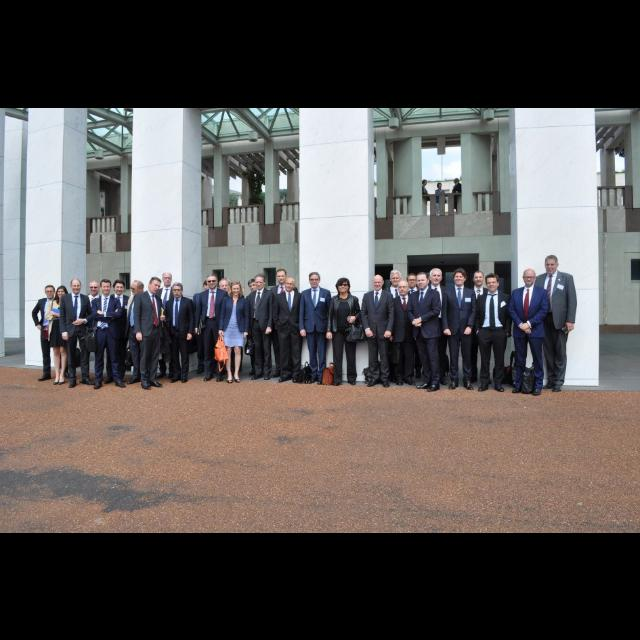head: (544, 254, 560, 274), (522, 268, 538, 286), (428, 267, 444, 285), (486, 274, 500, 292), (417, 271, 431, 289), (372, 273, 386, 291), (148, 276, 162, 294), (472, 270, 486, 286), (454, 268, 468, 284), (397, 280, 411, 296), (337, 277, 351, 293), (131, 280, 145, 296), (219, 278, 233, 292), (161, 272, 175, 286), (407, 272, 419, 288), (390, 269, 402, 285), (309, 272, 321, 288), (285, 276, 297, 292), (276, 268, 288, 284), (255, 274, 267, 290), (247, 276, 259, 292), (207, 273, 219, 289), (172, 282, 184, 298), (100, 278, 112, 294), (71, 278, 83, 294), (113, 279, 125, 295), (45, 284, 57, 300), (230, 281, 242, 295), (89, 280, 101, 294), (56, 286, 68, 298), (454, 178, 461, 184), (422, 180, 428, 186), (438, 182, 442, 188)
person: (530, 252, 580, 393), (508, 266, 552, 398), (325, 276, 371, 388), (82, 277, 128, 389), (472, 270, 514, 392), (404, 271, 444, 394), (439, 266, 478, 390), (58, 276, 98, 389), (132, 276, 170, 392), (359, 273, 396, 389), (212, 279, 252, 385), (31, 284, 74, 382), (270, 275, 308, 385), (298, 270, 334, 386), (193, 272, 230, 382), (462, 268, 496, 386), (422, 266, 454, 386), (124, 278, 158, 386), (150, 270, 183, 380), (268, 266, 300, 379), (388, 279, 420, 389), (244, 273, 276, 382), (165, 280, 198, 384), (206, 276, 238, 378), (382, 267, 410, 383), (103, 278, 133, 386), (399, 270, 427, 380), (45, 283, 75, 385), (79, 280, 107, 384), (243, 276, 270, 379), (450, 177, 464, 217), (434, 181, 448, 219), (420, 178, 430, 216)
